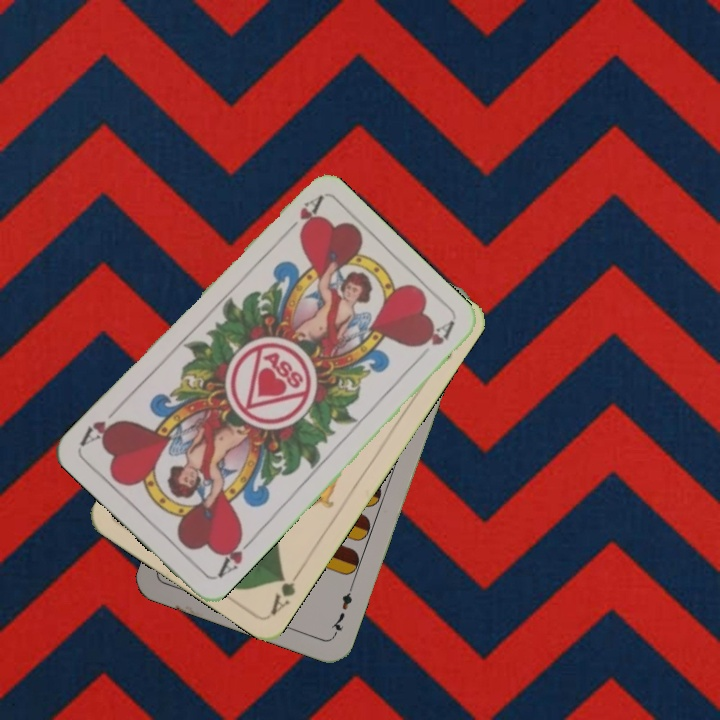E7: (326, 581, 356, 639)
GA: (266, 565, 305, 618)
HA: (277, 193, 325, 241), (213, 529, 257, 580)
